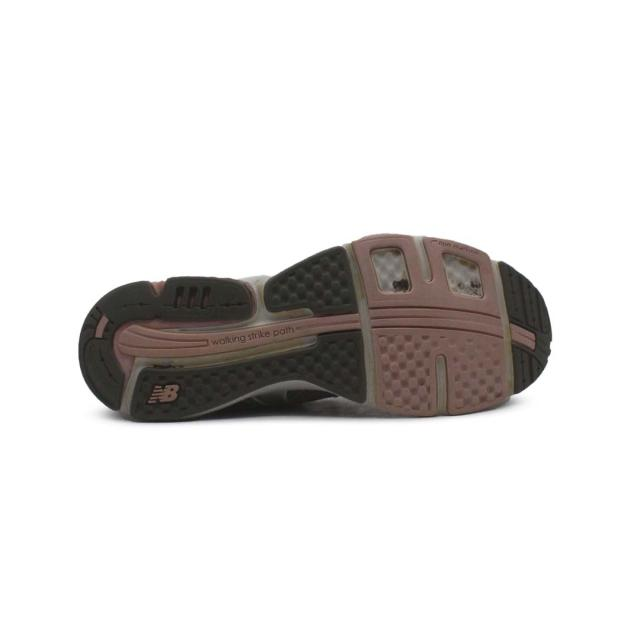outersole: (77, 234, 550, 423)
